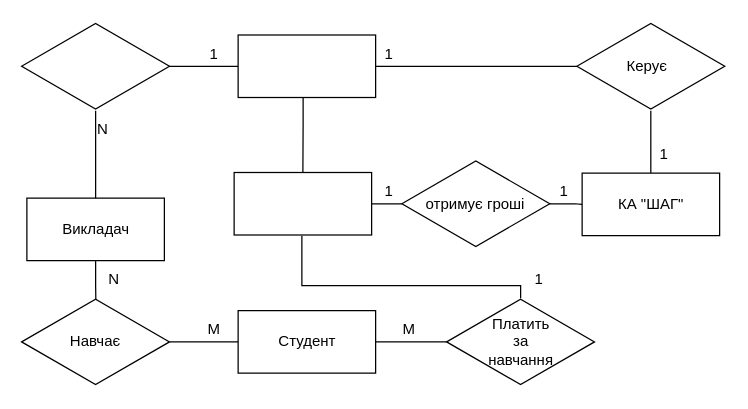
Image size: 748x409. Some labels were removed from this diagram. The centre of each missing label's shape, as x and y in pixels:
"Бухгалтерія" goes at pixel 302 203.
"Директор" goes at pixel 306 66.
"Керує викладачами" goes at pixel 95 66.
